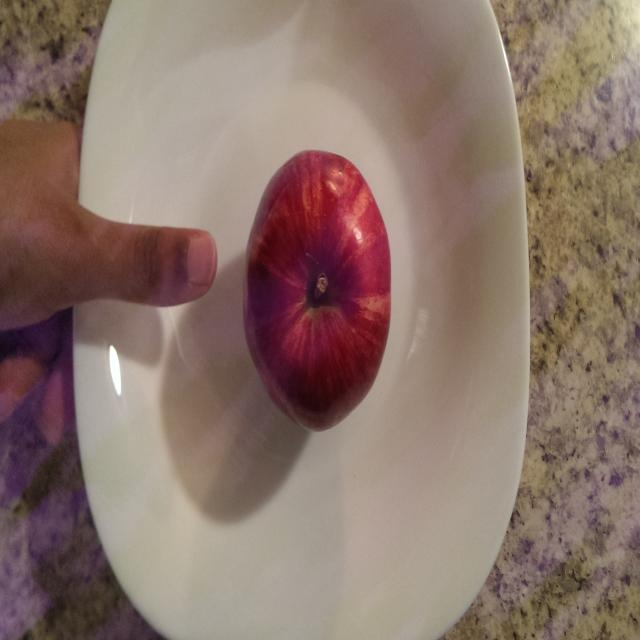apple: (239, 144, 399, 434)
